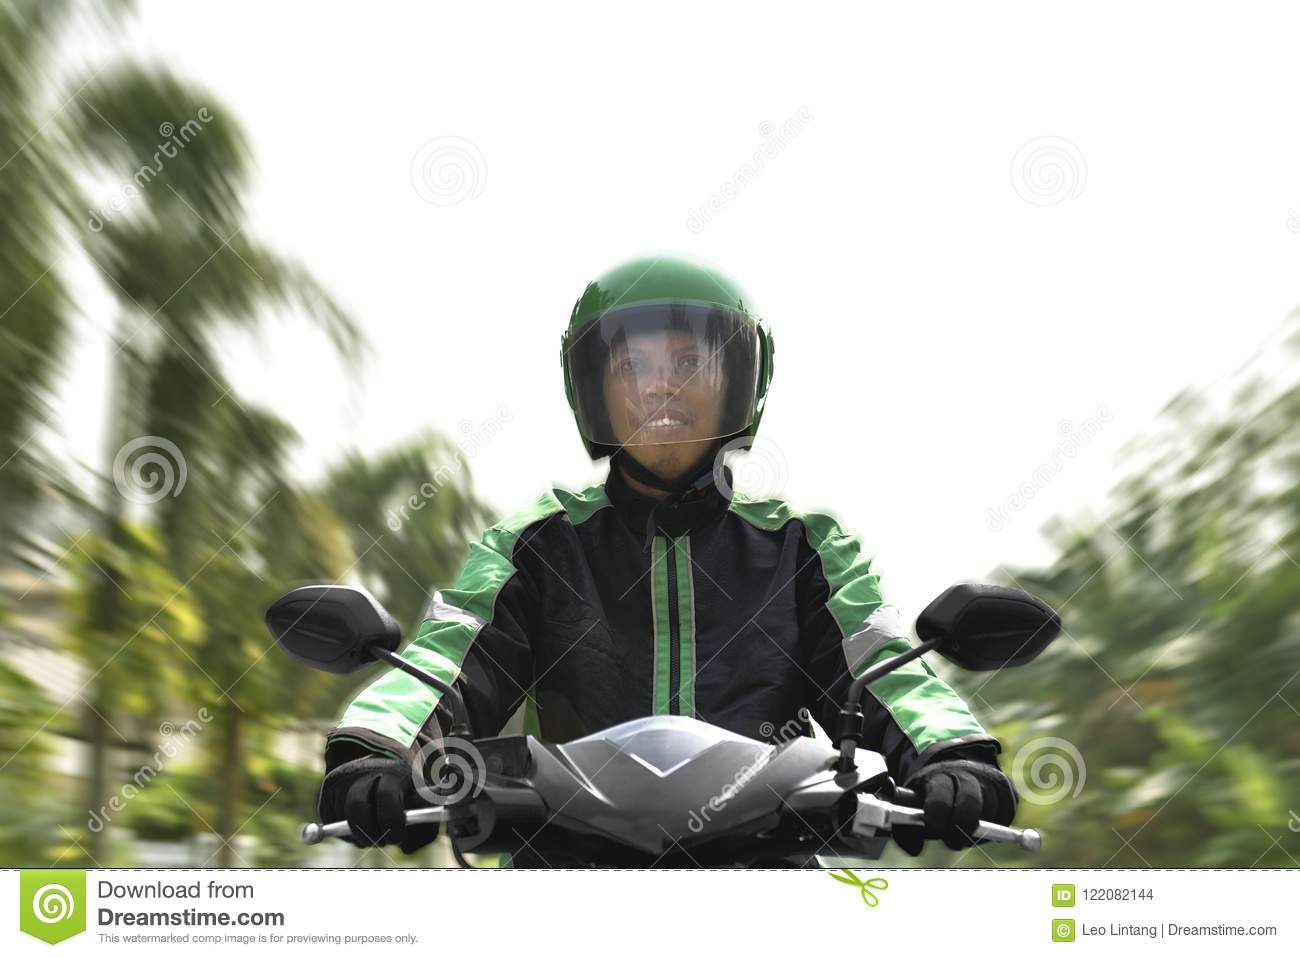helmet: (544, 261, 776, 435)
